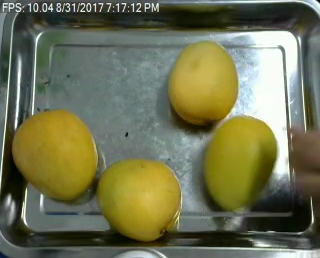Mango: (10, 109, 96, 203), (98, 158, 183, 242), (201, 115, 275, 211), (170, 40, 238, 122)
